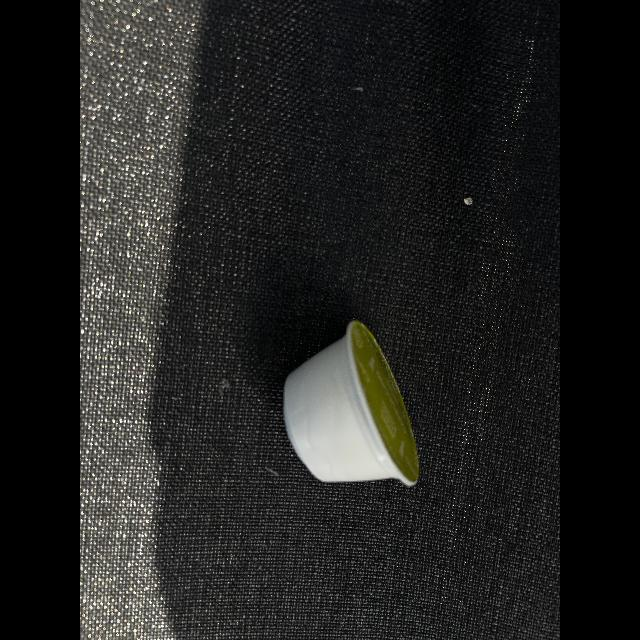intact_capsule: (276, 310, 426, 500)
